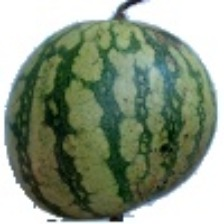watermelon: (39, 21, 192, 185)
